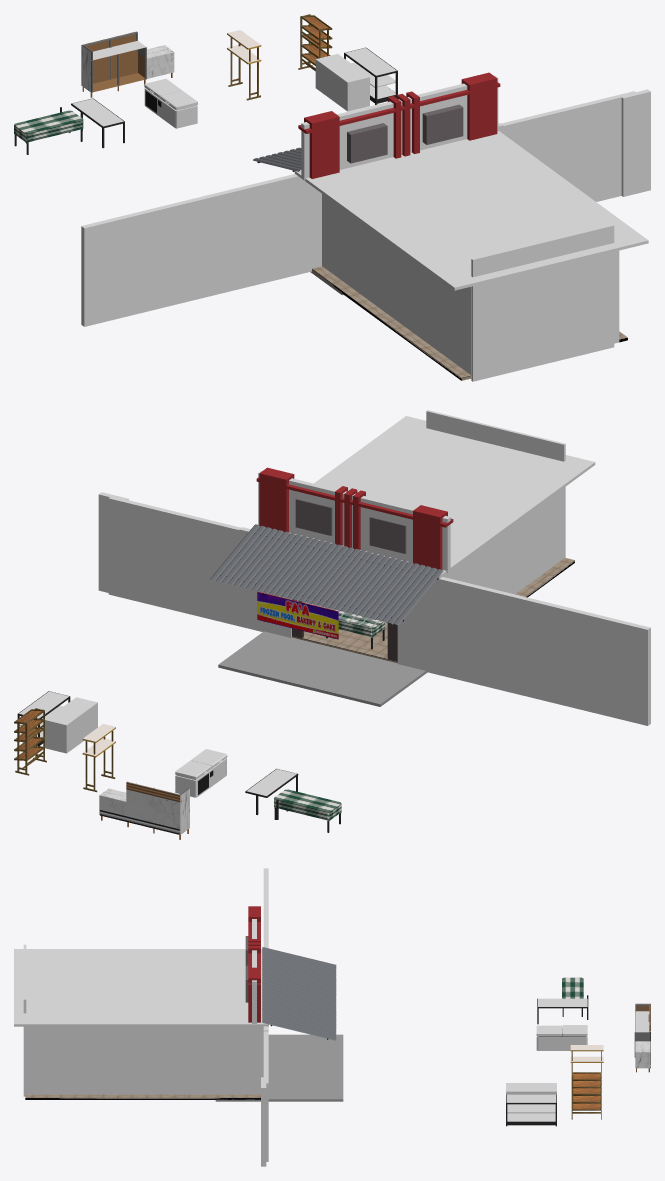
File: maptokoroti.glb
3 renders of one model, top to bottom at view 1: azimuth 30°, elevation 25°; view 2: azimuth 150°, elevation 25°; view 3: azimuth 270°, elevation 25°, orthographic. The views are drawn at different scales.
Parts seen in each view (by area): view 1: Cube.004, Cube.007, Cube.120, Cube.001, Cube.005, Cube.128, Cube.008, Cube.030, Cube, Cube.132, Cube.130, Cube.053 (+12 smaller); view 2: Cube.007, Cube.004, Cube.005, Plane.001, Cube.011, Cube.001, Cube.128, Cube.120, Cube.010, Cube, Cube.030, Cube.105 (+11 smaller); view 3: Cube.004, Cube.002, Plane.001, Cube.011, Cube, Cube.030, Cube.103, Cube.008, Cube.005, Cube.130, Cube.120, Cube.081 (+6 smaller).
Boxes of the visible parts, left/top/right/bottom form: Cube.004: left=294, top=130, right=648, bottom=290; Cube.007: left=81, top=174, right=321, bottom=326; Cube.120: left=471, top=224, right=614, bottom=381; Cube.001: left=322, top=194, right=471, bottom=377; Cube.005: left=499, top=91, right=635, bottom=201; Cube.128: left=301, top=76, right=498, bottom=180; Cube.008: left=620, top=89, right=650, bottom=196; Cube.030: left=315, top=54, right=369, bottom=111; Cube: left=312, top=266, right=627, bottom=380; Cube.132: left=304, top=111, right=339, bottom=178; Cube.130: left=461, top=72, right=497, bottom=140; Cube.053: left=91, top=47, right=144, bottom=92; Cube.007: left=397, top=577, right=650, bottom=725; Cube.004: left=258, top=416, right=595, bottom=578; Cube.005: left=108, top=496, right=291, bottom=637; Plane.001: left=210, top=524, right=443, bottom=625; Cube.011: left=218, top=631, right=427, bottom=706; Cube.001: left=443, top=487, right=564, bottom=594; Cube.128: left=258, top=471, right=450, bottom=572; Cube.120: left=426, top=410, right=565, bottom=557; Cube.010: left=257, top=591, right=338, bottom=639; Cube: left=292, top=557, right=574, bottom=663; Cube.030: left=45, top=697, right=97, bottom=753; Cube.105: left=126, top=782, right=189, bottom=834; Cube.004: left=14, top=949, right=268, bottom=1026; Cube.002: left=25, top=1026, right=263, bottom=1094; Plane.001: left=262, top=947, right=336, bottom=1040; Cube.011: left=215, top=1034, right=343, bottom=1101; Cube: left=25, top=1094, right=260, bottom=1099; Cube.030: left=506, top=1083, right=556, bottom=1113; Cube.103: left=536, top=1036, right=587, bottom=1050; Cube.008: left=261, top=1077, right=266, bottom=1166; Cube.005: left=263, top=1031, right=268, bottom=1161; Cube.130: left=248, top=967, right=260, bottom=1022; Cube.120: left=23, top=944, right=26, bottom=1096; Cube.081: left=562, top=977, right=583, bottom=998.
Size of the model in its own units: 20.38 by 5.61 by 24.97.
Materials: 119 (12 with a texture image).
